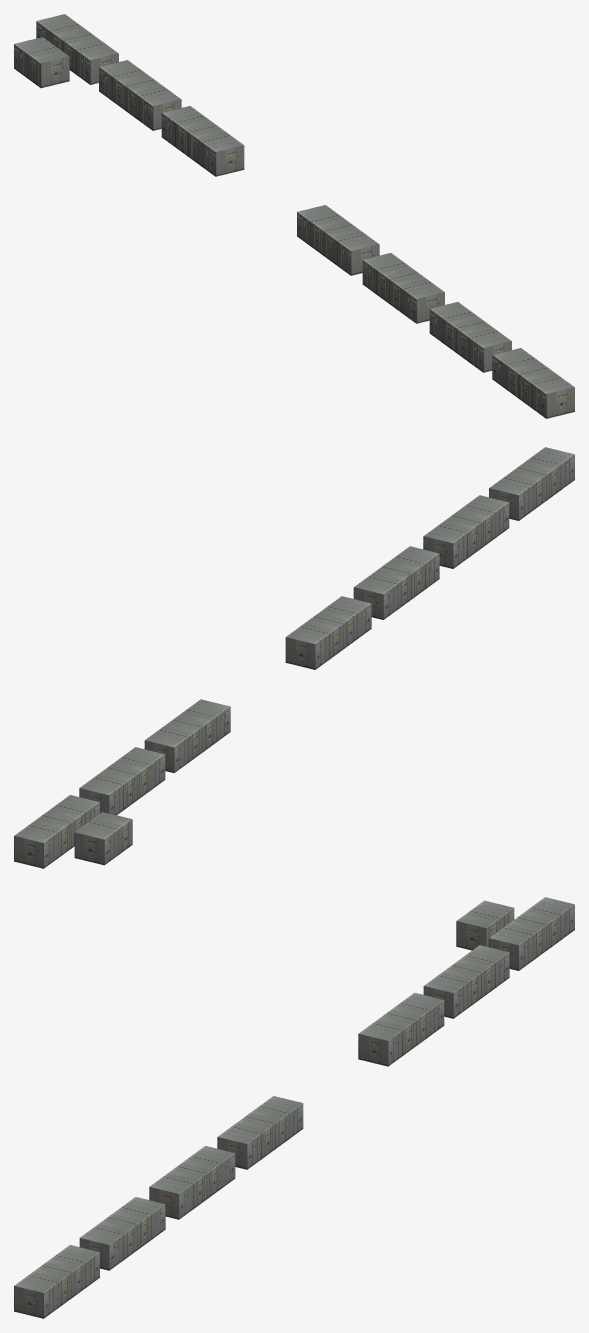
Rendered from JiGungLou_Aircondition.FBX.
3 views of the same model, one above another, from view 1: azimuth 30°, elevation 25°; view 2: azimuth 150°, elevation 25°; view 3: azimuth 330°, elevation 25° (orthographic). The views are drawn at different scales.
Visible parts, largest first — view 1: Aircondition_ALKO002, Aircondition_ALKO006, Aircondition_ALKO004, Aircondition_ALKO003, Aircondition_ALKO005, Aircondition_ALKO001, Aircondition_ALKO00, Aircondition_ALKO007; view 2: Aircondition_ALKO003, Aircondition_ALKO005, Aircondition_ALKO004, Aircondition_ALKO002, Aircondition_ALKO006, Aircondition_ALKO00, Aircondition_ALKO001, Aircondition_ALKO007; view 3: Aircondition_ALKO002, Aircondition_ALKO006, Aircondition_ALKO004, Aircondition_ALKO003, Aircondition_ALKO005, Aircondition_ALKO001, Aircondition_ALKO00, Aircondition_ALKO007.
Boxes of the visible parts, left/top/right/bottom form: Aircondition_ALKO002: left=161, top=106, right=244, bottom=176; Aircondition_ALKO006: left=492, top=348, right=574, bottom=418; Aircondition_ALKO004: left=362, top=253, right=444, bottom=323; Aircondition_ALKO003: left=297, top=205, right=379, bottom=275; Aircondition_ALKO005: left=429, top=302, right=511, bottom=372; Aircondition_ALKO001: left=99, top=60, right=181, bottom=130; Aircondition_ALKO00: left=36, top=14, right=118, bottom=84; Aircondition_ALKO007: left=14, top=37, right=69, bottom=88; Aircondition_ALKO003: left=285, top=596, right=371, bottom=669; Aircondition_ALKO005: left=423, top=495, right=509, bottom=568; Aircondition_ALKO004: left=353, top=546, right=439, bottom=619; Aircondition_ALKO002: left=144, top=699, right=230, bottom=773; Aircondition_ALKO006: left=489, top=447, right=574, bottom=520; Aircondition_ALKO00: left=14, top=795, right=99, bottom=868; Aircondition_ALKO001: left=79, top=747, right=165, bottom=815; Aircondition_ALKO007: left=74, top=812, right=132, bottom=865; Aircondition_ALKO002: left=358, top=992, right=444, bottom=1066; Aircondition_ALKO006: left=14, top=1245, right=99, bottom=1318; Aircondition_ALKO004: left=149, top=1146, right=235, bottom=1219; Aircondition_ALKO003: left=217, top=1096, right=303, bottom=1169; Aircondition_ALKO005: left=79, top=1197, right=165, bottom=1270; Aircondition_ALKO001: left=423, top=945, right=509, bottom=1018; Aircondition_ALKO00: left=489, top=897, right=574, bottom=970; Aircondition_ALKO007: left=456, top=900, right=514, bottom=950.
Size of the model in its own units: 493 by 166 by 6230.
